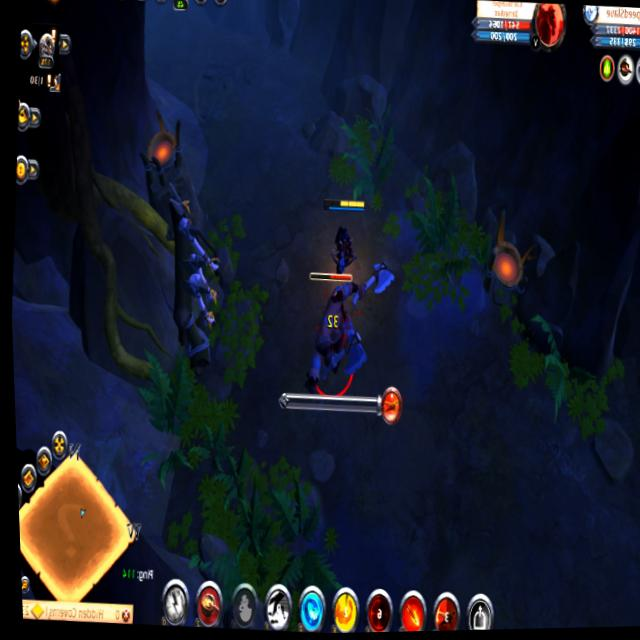ore: (294, 260, 372, 414)
red: (315, 190, 373, 281)
